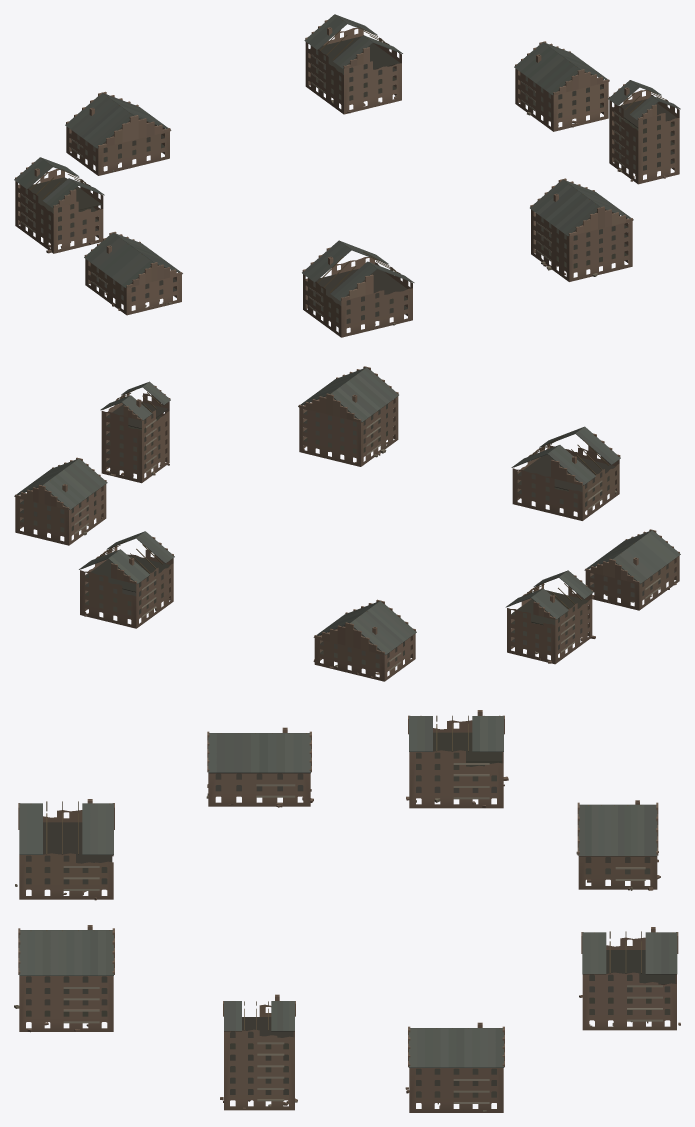
Rendered from relay-skyline.glb.
The picture shows the model from 3 angles, top to bottom: view 1: azimuth 30°, elevation 25°; view 2: azimuth 150°, elevation 25°; view 3: azimuth 270°, elevation 25°; orthographic projection. The views are drawn at different scales.
Visible parts, largest first — view 1: signal-village-sector-3, signal-village-sector-2, signal-village-sector-1, signal-village-sector-0; view 2: signal-village-sector-3, signal-village-sector-2, signal-village-sector-1, signal-village-sector-0; view 3: signal-village-sector-3, signal-village-sector-0, signal-village-sector-2, signal-village-sector-1.
Boxes of the visible parts, bbox=[...] form: signal-village-sector-3: bbox=[302, 178, 633, 337]; signal-village-sector-2: bbox=[65, 14, 402, 175]; signal-village-sector-1: bbox=[514, 41, 680, 184]; signal-village-sector-0: bbox=[14, 157, 182, 315]; signal-village-sector-3: bbox=[298, 366, 620, 520]; signal-village-sector-2: bbox=[79, 531, 416, 681]; signal-village-sector-1: bbox=[14, 381, 170, 545]; signal-village-sector-0: bbox=[505, 529, 680, 664]; signal-village-sector-3: bbox=[14, 799, 114, 1032]; signal-village-sector-0: bbox=[206, 710, 508, 808]; signal-village-sector-2: bbox=[576, 800, 680, 1030]; signal-village-sector-1: bbox=[220, 994, 504, 1112].
Size of the model in its own units: 206 by 27.13 by 169.
